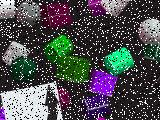Left: (1, 82, 63, 120)
